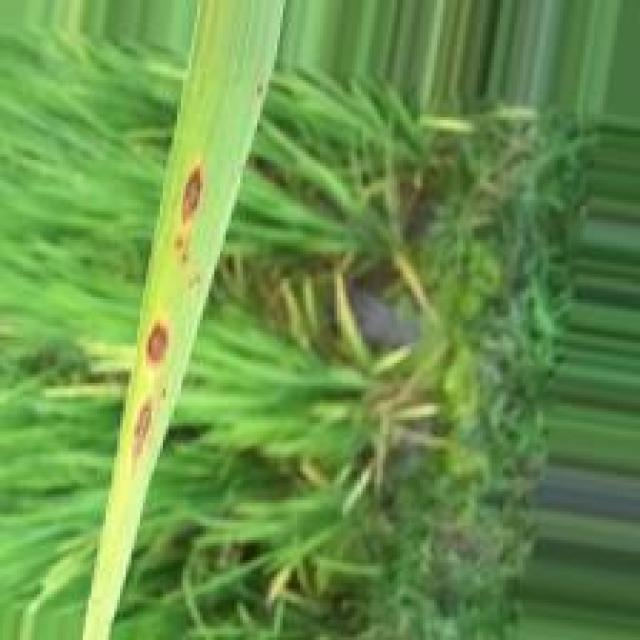Brown_Spot: (131, 393, 158, 465), (179, 161, 206, 230), (142, 313, 172, 370), (172, 235, 188, 250), (179, 250, 193, 267)
